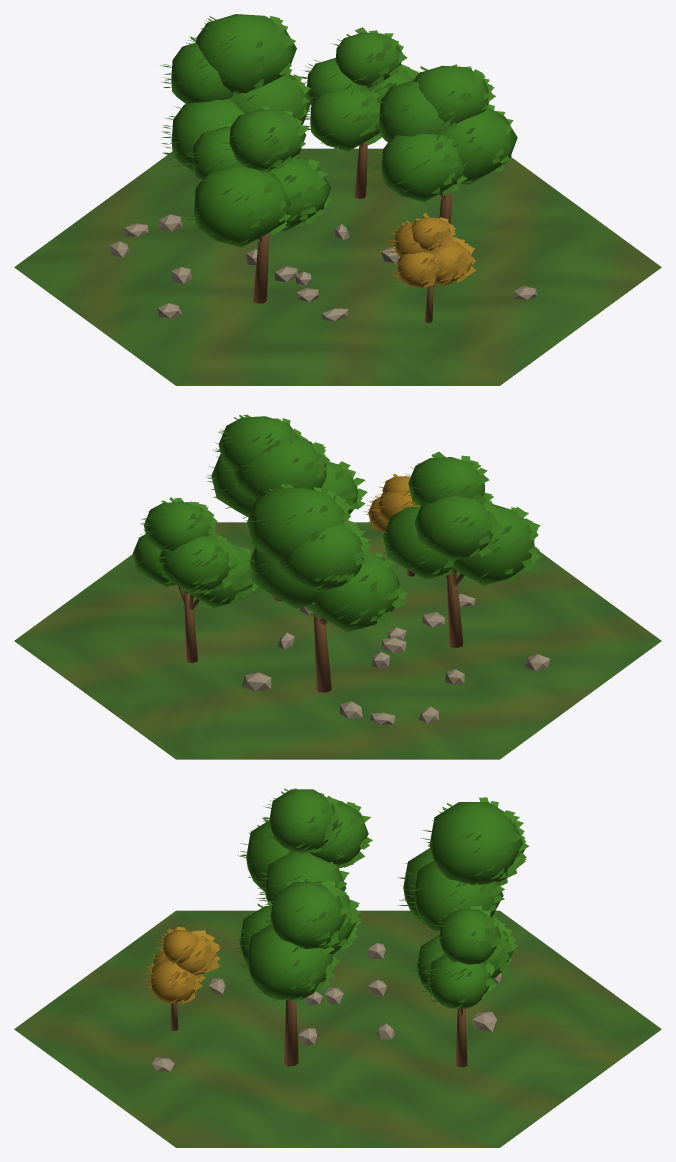
File: SM_Terreno_Bosque_Revision.fbx
The picture shows the model from 3 angles, top to bottom: view 1: azimuth 30°, elevation 25°; view 2: azimuth 150°, elevation 25°; view 3: azimuth 270°, elevation 25°; orthographic projection.
Parts seen in each view (by area): view 1: SM_Terreno_Bosque_Revision; view 2: SM_Terreno_Bosque_Revision; view 3: SM_Terreno_Bosque_Revision.
Boxes of the visible parts, x1=… form: SM_Terreno_Bosque_Revision: x1=14, y1=14, x2=661, y2=385; SM_Terreno_Bosque_Revision: x1=14, y1=414, x2=661, y2=759; SM_Terreno_Bosque_Revision: x1=14, y1=788, x2=661, y2=1147.
Size of the model in its own units: 173 by 71.31 by 200.
